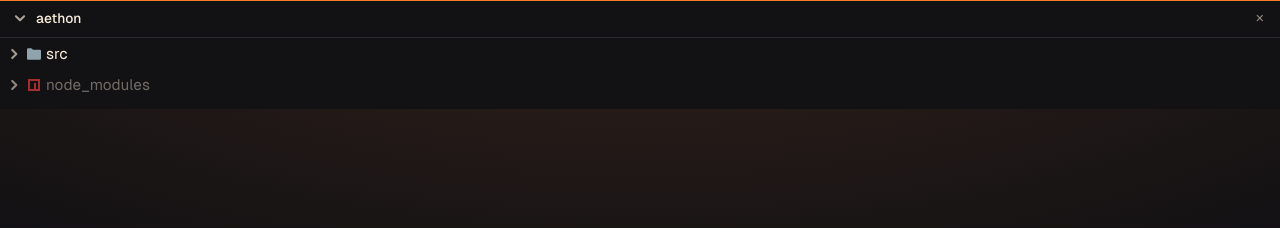
Test: FileTreePanel › expand all reveals nested folders but skips ignored dirs
Right-click the element with class "ae-file-tree-titlebar" at [640, 19], box x1=0 y1=0 x2=1279 y2=38
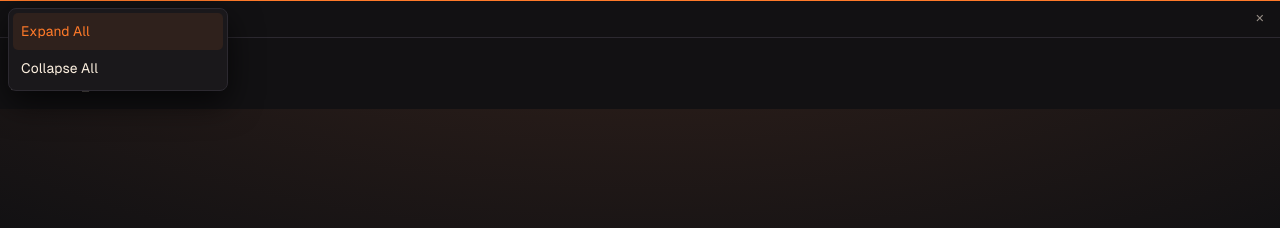
Click the menu item "Expand All" at [118, 31], box x1=13 y1=13 x2=223 y2=50
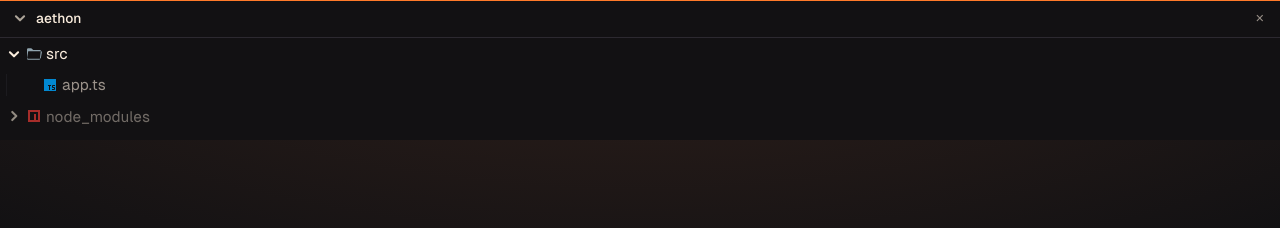
expect the text "app.ts" is shown: met, box x1=62 y1=76 x2=106 y2=93
